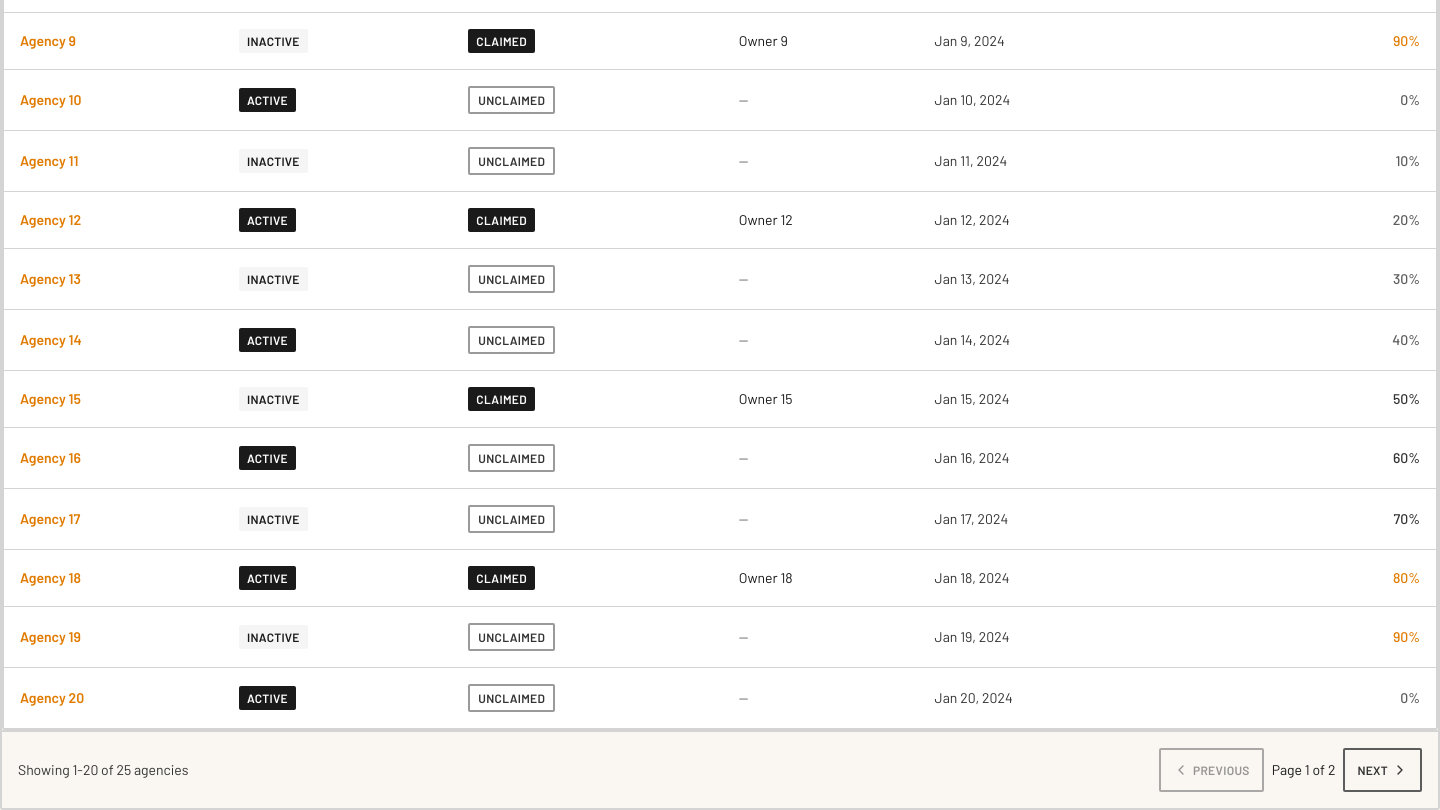
it: AdminAgenciesTable › Pagination › navigates to next page when Next button is clicked
(page scrolled)
Click the button with test id "pagination-next" at [1383, 770], box [1343,748,1422,792]
(page scrolled)
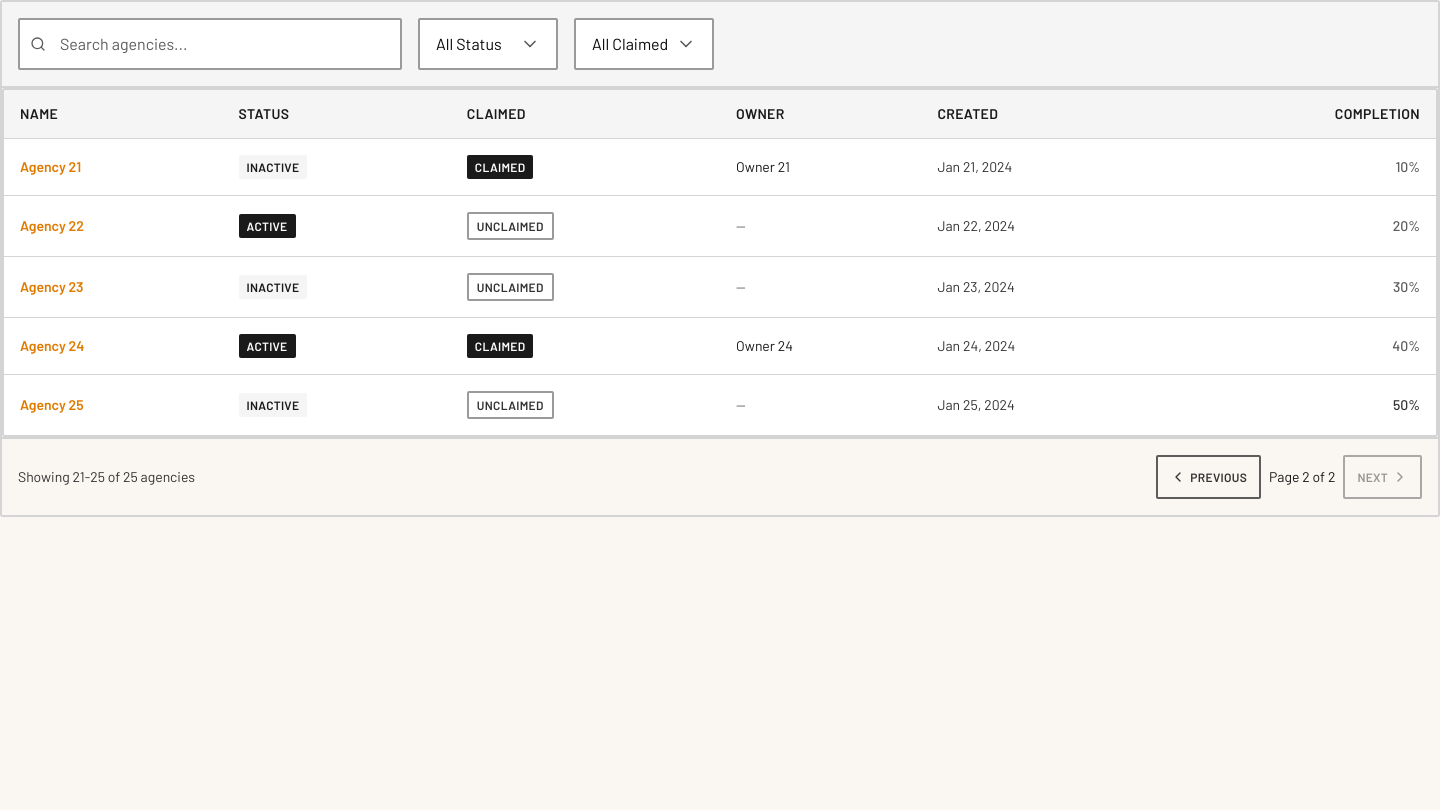
Check: the text with test id "pagination-info" reads "Page 2 of 2", box [1269,466,1335,486]
